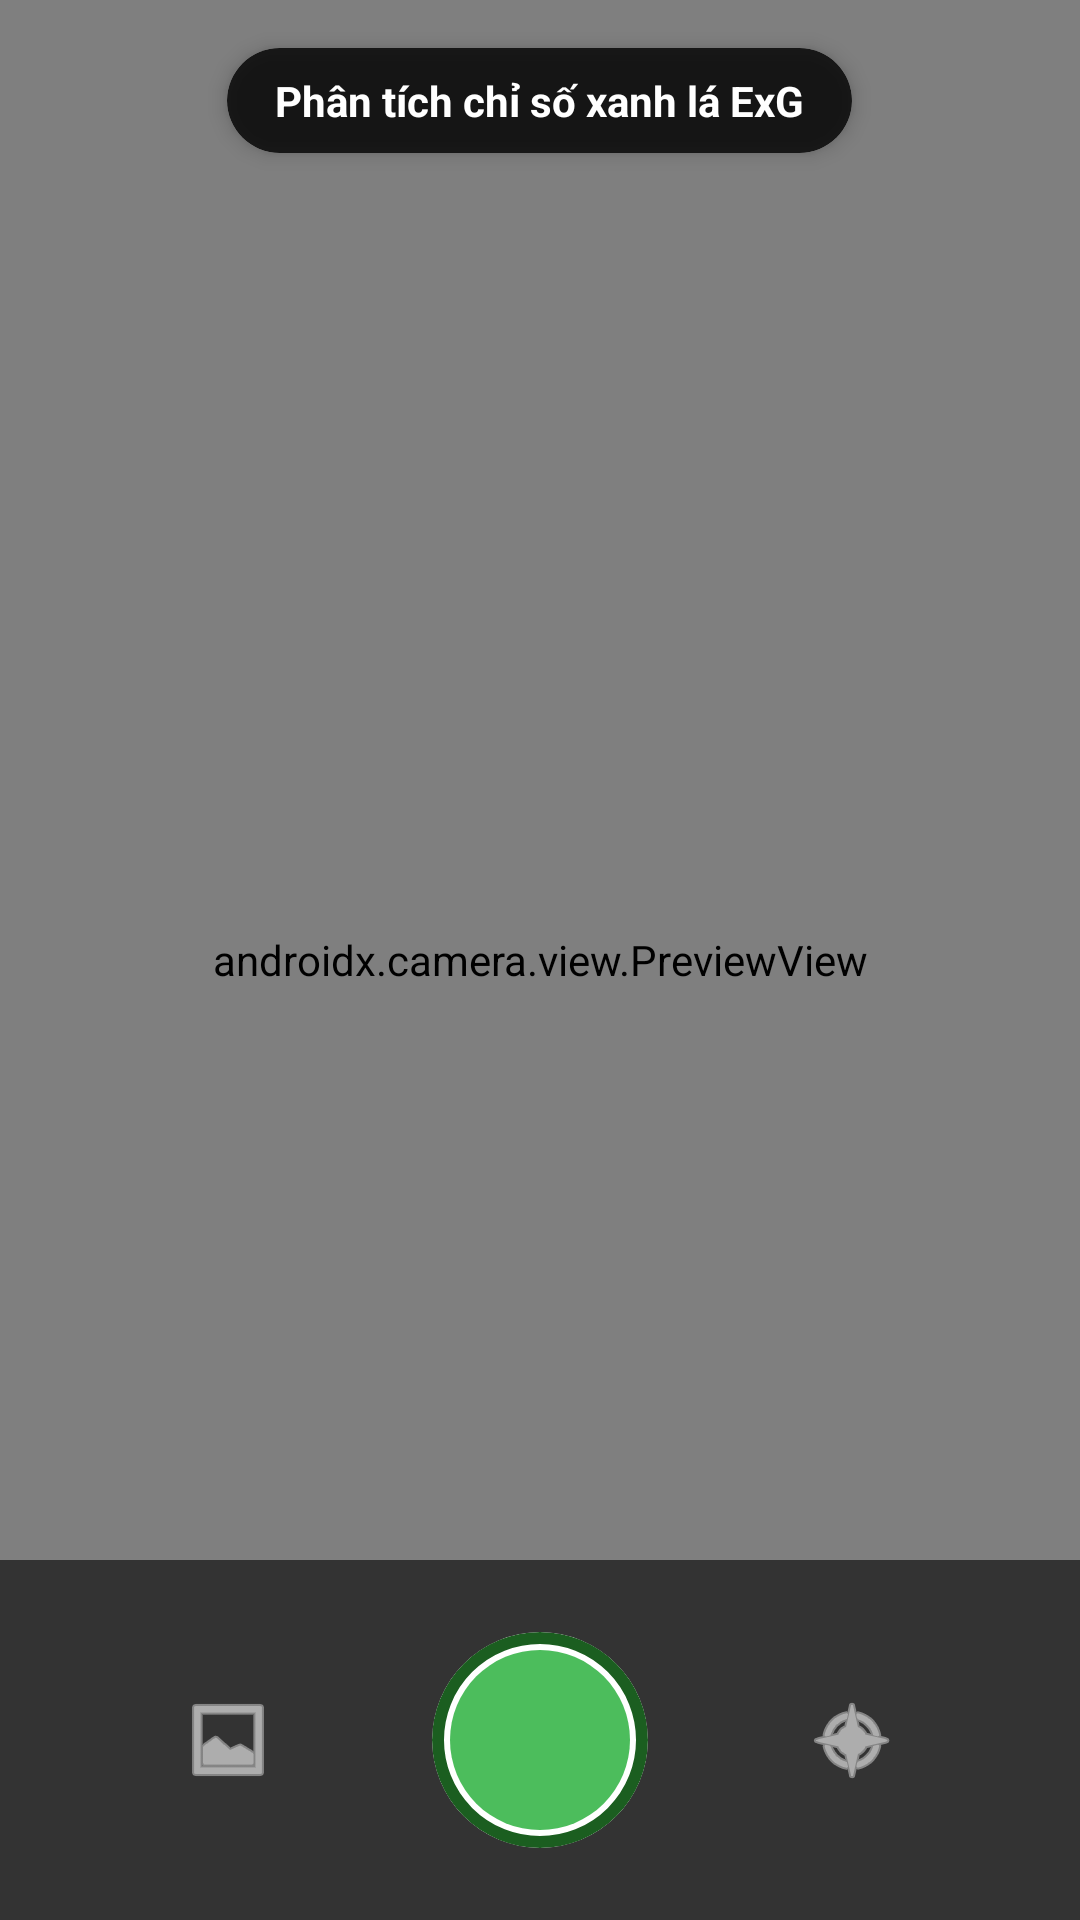

Named icons in this screenshot (1080w x 1920h) and their centers, point (x, y):
Thư viện ảnh: point (228, 1740)
